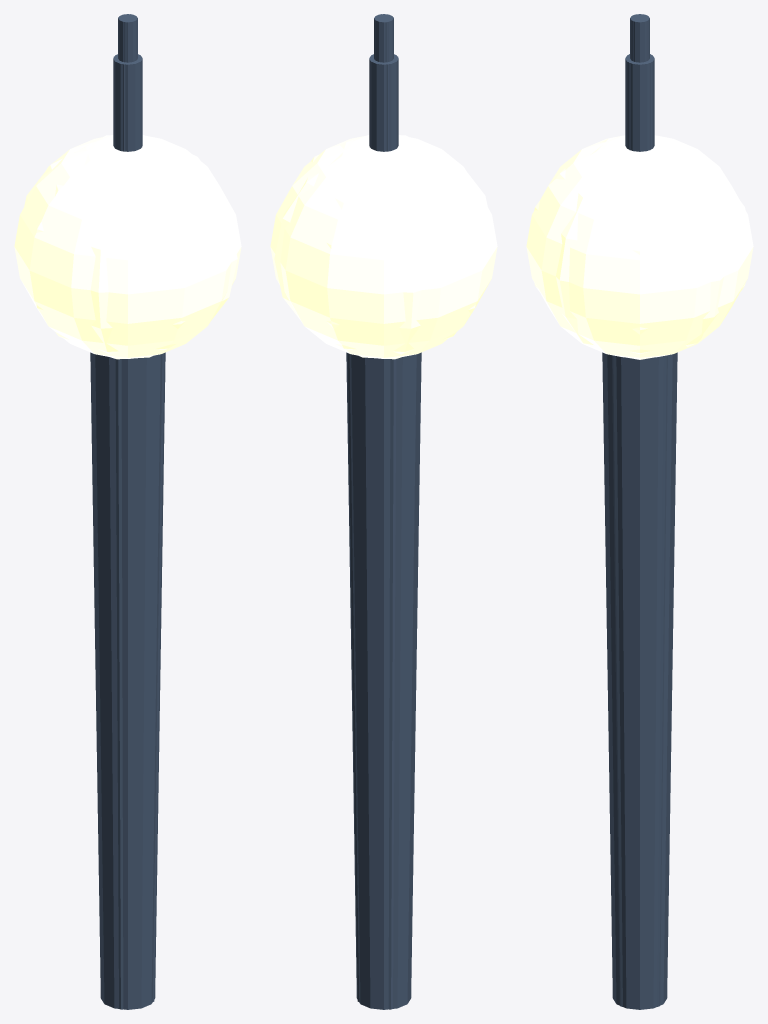
Rendered from prp_lantern_market_a.glb.
3 views of the same model, side by side, from view 1: azimuth 30°, elevation 25°; view 2: azimuth 150°, elevation 25°; view 3: azimuth 270°, elevation 25° (orthographic).
Parts seen in each view (by area): view 1: lod0__lantern_stem, lod0__lantern_bulb, lod1__lantern_stem, lod1__lantern_bulb, lod0__lantern_hanger, lod0__lantern_hook; view 2: lod0__lantern_stem, lod0__lantern_bulb, lod1__lantern_stem, lod1__lantern_bulb, lod0__lantern_hanger, lod0__lantern_hook; view 3: lod0__lantern_stem, lod0__lantern_bulb, lod1__lantern_stem, lod1__lantern_bulb, lod0__lantern_hanger, lod0__lantern_hook.
Part boxes in pixels (x1=…): lod0__lantern_stem: x1=90, y1=352, x2=165, y2=1009; lod0__lantern_bulb: x1=14, y1=135, x2=241, y2=358; lod1__lantern_stem: x1=115, y1=353, x2=164, y2=1009; lod1__lantern_bulb: x1=24, y1=135, x2=237, y2=359; lod0__lantern_hanger: x1=113, y1=54, x2=142, y2=151; lod0__lantern_hook: x1=118, y1=14, x2=137, y2=62; lod0__lantern_stem: x1=346, y1=352, x2=421, y2=1009; lod0__lantern_bulb: x1=270, y1=135, x2=497, y2=358; lod1__lantern_stem: x1=347, y1=353, x2=396, y2=1009; lod1__lantern_bulb: x1=274, y1=135, x2=487, y2=359; lod0__lantern_hanger: x1=369, y1=54, x2=398, y2=151; lod0__lantern_hook: x1=374, y1=14, x2=393, y2=62; lod0__lantern_stem: x1=602, y1=352, x2=677, y2=1009; lod0__lantern_bulb: x1=526, y1=135, x2=753, y2=358; lod1__lantern_stem: x1=612, y1=355, x2=667, y2=1006; lod1__lantern_bulb: x1=534, y1=137, x2=745, y2=359; lod0__lantern_hanger: x1=625, y1=54, x2=654, y2=151; lod0__lantern_hook: x1=630, y1=14, x2=649, y2=62.
Bounding box in the file's own units: 0.46 × 2.19 × 0.46.
